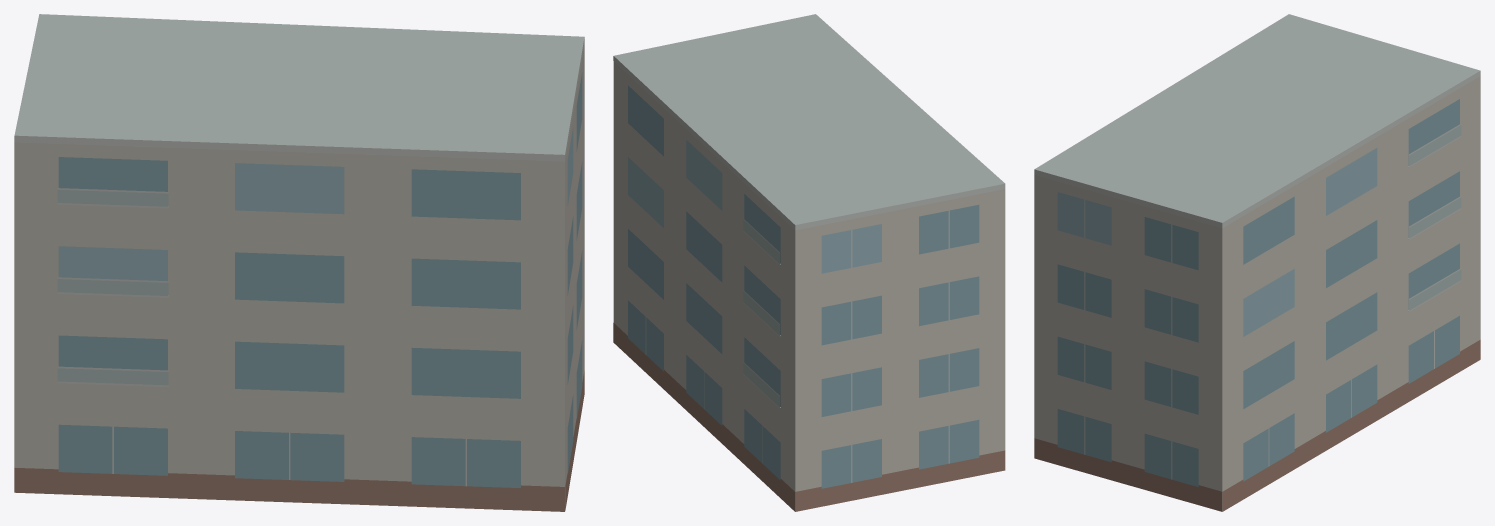
The model's file is survey-upis-32989663.glb.
3 renders of one model, left to right at view 1: azimuth 30°, elevation 25°; view 2: azimuth 150°, elevation 25°; view 3: azimuth 270°, elevation 25°, orthographic. The views are drawn at different scales.
Visible parts, largest first — view 1: survey-upis-32989663.tmp; view 2: survey-upis-32989663.tmp; view 3: survey-upis-32989663.tmp.
Boxes of the visible parts, left/top/right/bottom form: survey-upis-32989663.tmp: left=14, top=14, right=584, bottom=511; survey-upis-32989663.tmp: left=613, top=14, right=1005, bottom=511; survey-upis-32989663.tmp: left=1034, top=14, right=1480, bottom=511.
Bounding box in the file's own units: 20.24 × 13.05 × 18.28.
